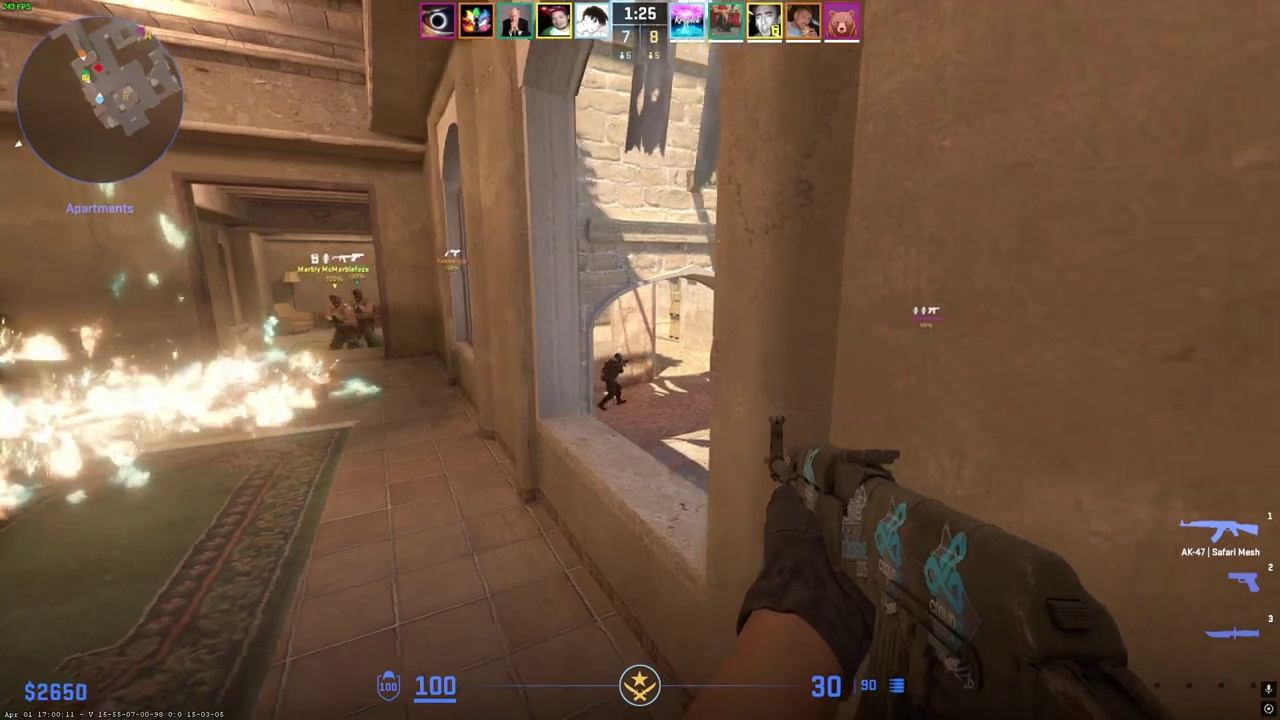CT: (601, 353, 627, 410)
Terrorist: (325, 293, 355, 351), (351, 289, 376, 348)
